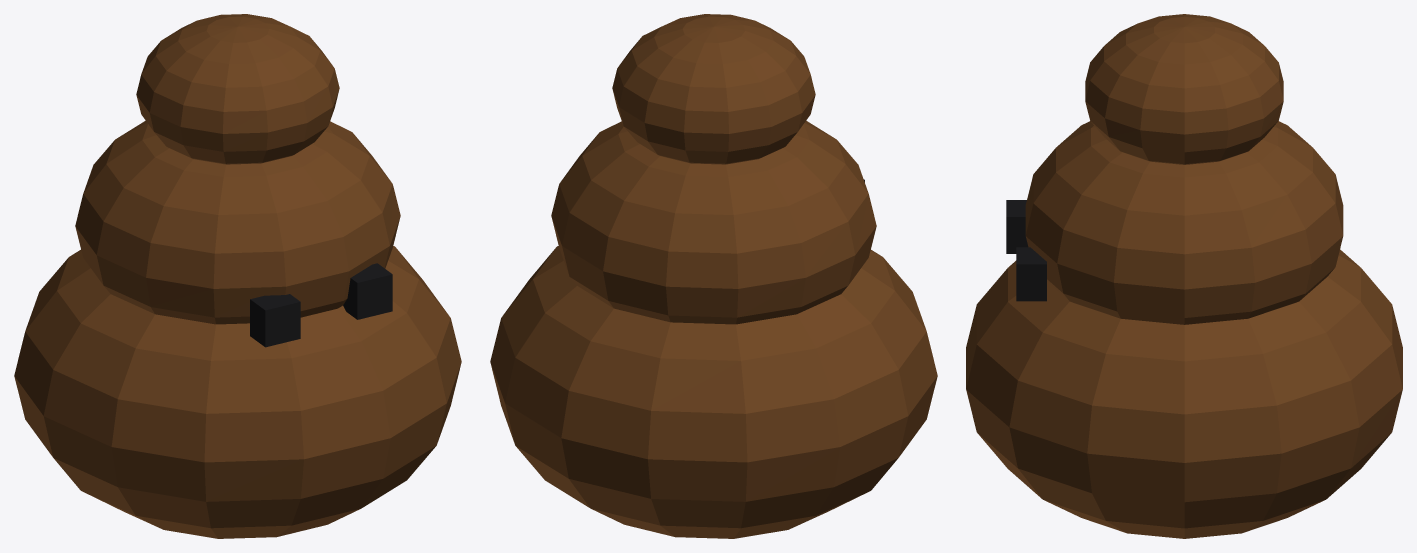
Rendered from Item_Poop.obj.
3 renders of one model, left to right at view 1: azimuth 30°, elevation 25°; view 2: azimuth 150°, elevation 25°; view 3: azimuth 270°, elevation 25°, orthographic.
Visible parts, largest first — view 1: Item_Poop; view 2: Item_Poop; view 3: Item_Poop.
Boxes of the visible parts, bbox=[...] form: Item_Poop: bbox=[14, 14, 461, 538]; Item_Poop: bbox=[490, 14, 937, 538]; Item_Poop: bbox=[966, 14, 1402, 538].
Size of the model in its own units: 0.44 by 0.524 by 0.429.
